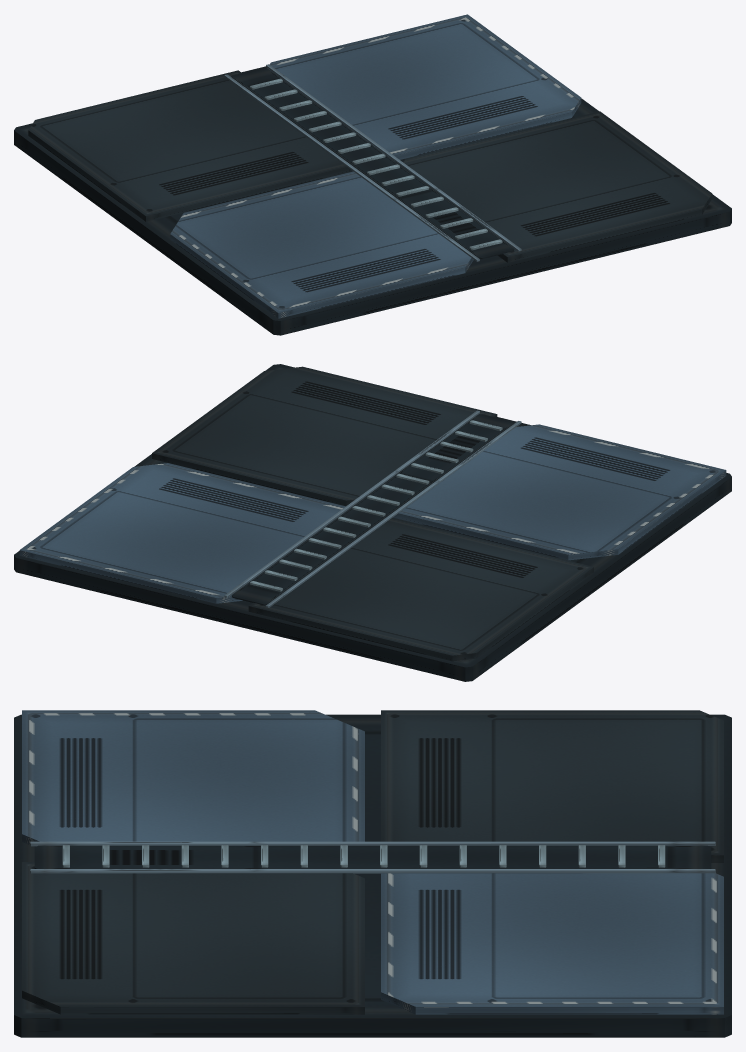
The model's file is V47_Deck2.fbx.
3 renders of one model, top to bottom at view 1: azimuth 30°, elevation 25°; view 2: azimuth 150°, elevation 25°; view 3: azimuth 270°, elevation 25°, orthographic. The views are drawn at different scales.
Visible parts, largest first — view 1: V47_Deck2; view 2: V47_Deck2; view 3: V47_Deck2.
Boxes of the visible parts, left/top/right/bottom form: V47_Deck2: left=14, top=14, right=731, bottom=335; V47_Deck2: left=14, top=364, right=731, bottom=681; V47_Deck2: left=14, top=710, right=731, bottom=1037.
Size of the model in its own units: 3.98 by 0.188 by 3.98.
